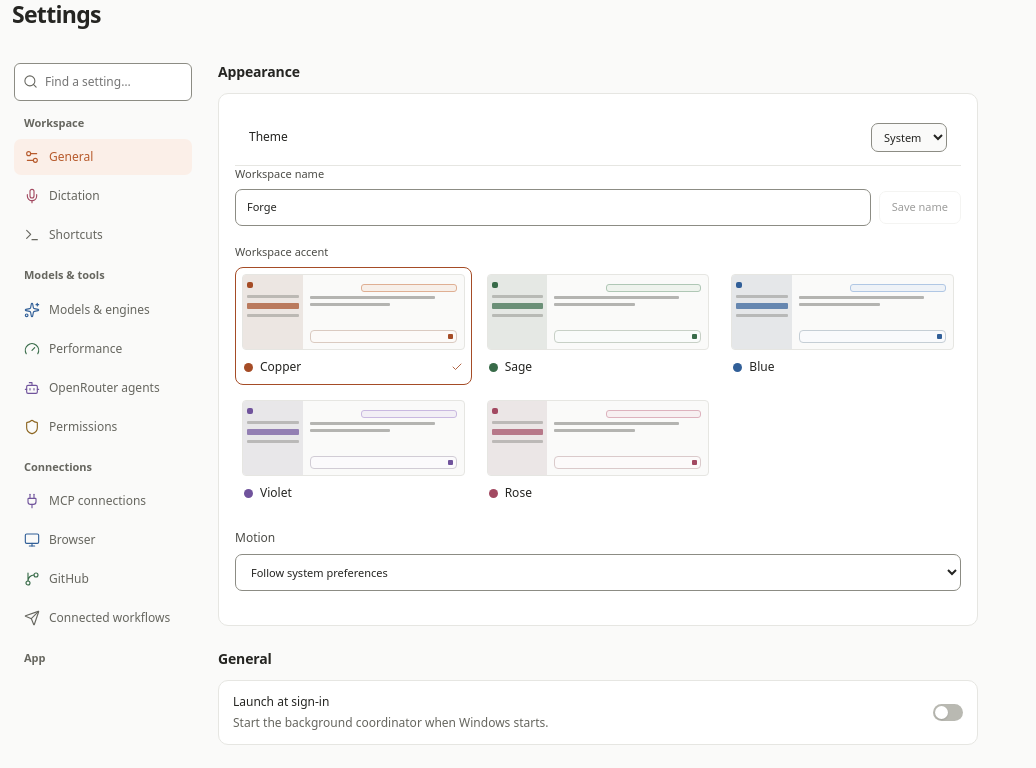
settings navigation › finds specific controls by keyword and reveals advanced controls without changing their values
Type "temperature" into the field labelled "Find a setting". click: (114, 82)
box: [45,73,183,91]
(page scrolled)
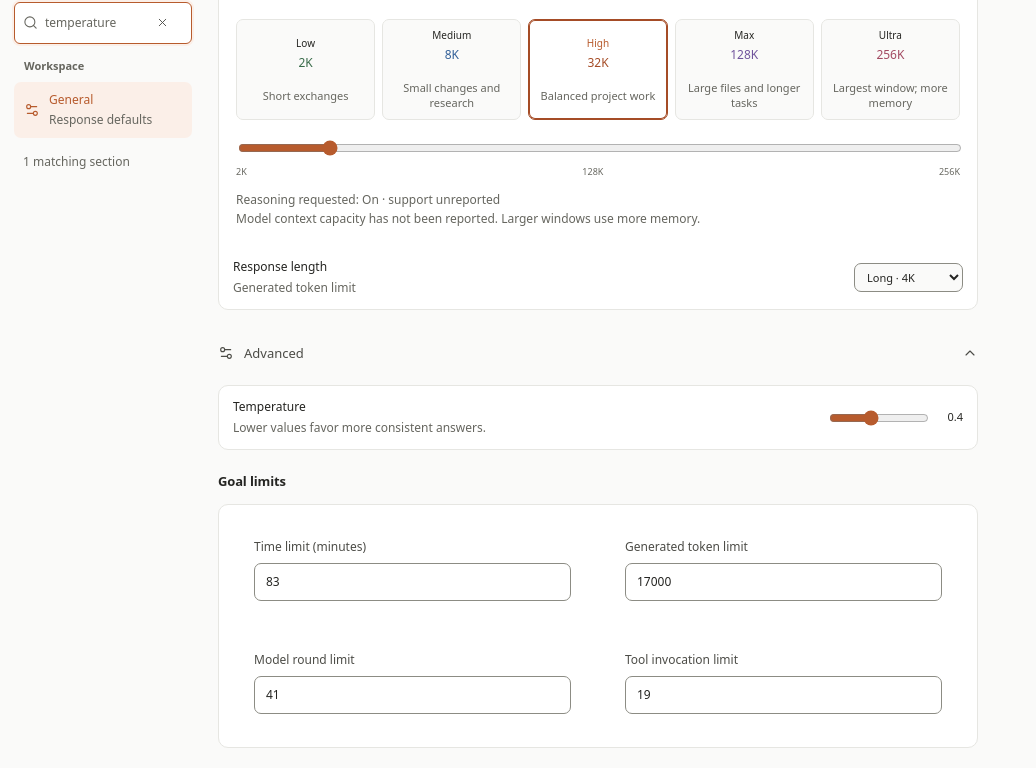
Check: the slider named "Temperature" holds "0.4", box [829,408,929,426]
Check: the number field labelled "Time limit (minutes)" holds "83", box [254,562,571,600]
